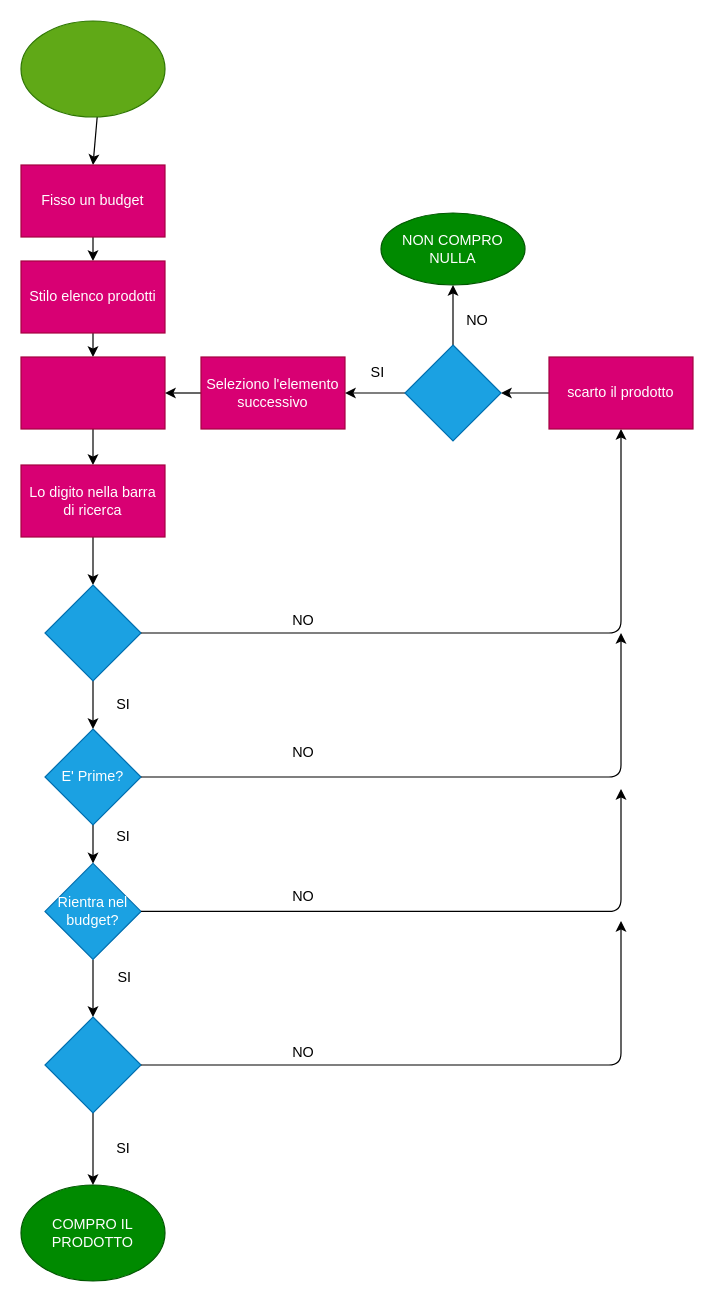
This 714x1302 diagram has some shape labels left out. Each missing label, with the centre of its shape:
"C'è un altro elemento nella lista?" goes at point 452,392.
"Cerco il prodotto" goes at point 92,392.
"Comprare qualcosa su Amazon" goes at point 92,68.
"Viene consegnato domani?" goes at point 92,1064.
"è nella lista?" goes at point 92,632.
